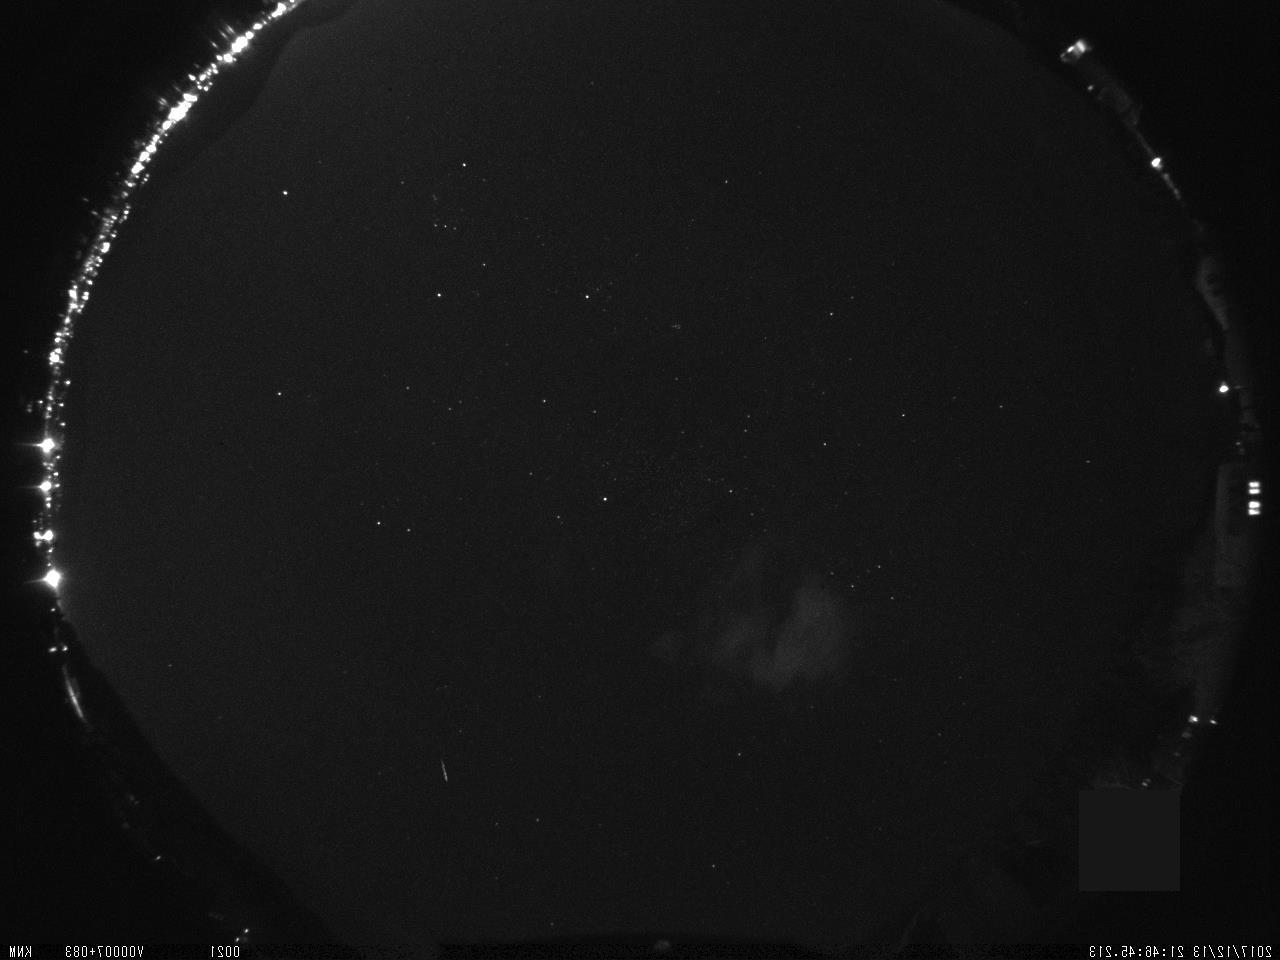meteor: (433, 756, 458, 789)
